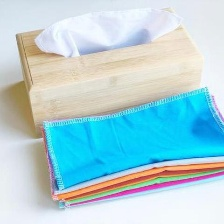tissue: (27, 0, 189, 63)
